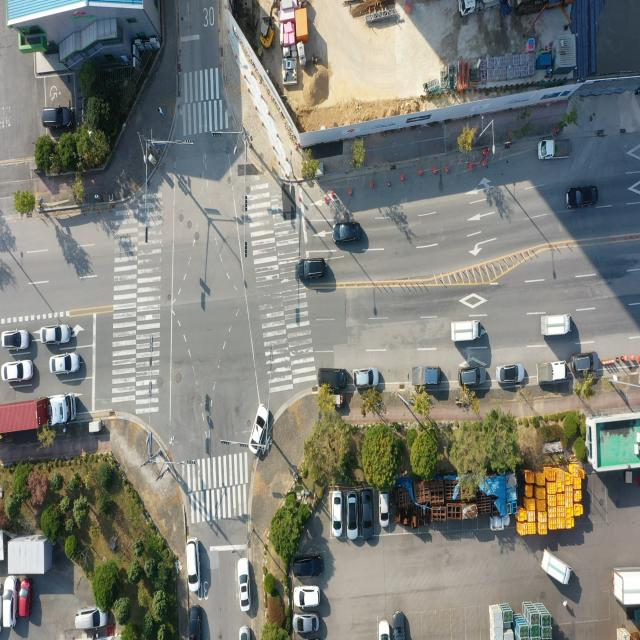car: (250, 403, 270, 454), (42, 104, 74, 129), (566, 188, 598, 212), (2, 576, 16, 628), (318, 367, 348, 391), (2, 359, 33, 382), (294, 556, 322, 580), (496, 362, 525, 385), (78, 610, 108, 632), (334, 221, 362, 244), (300, 259, 328, 282), (571, 351, 599, 374), (53, 354, 82, 376), (41, 323, 70, 345), (186, 540, 198, 592), (360, 491, 373, 539), (0, 331, 28, 353), (294, 586, 320, 608), (353, 368, 379, 390), (462, 364, 488, 386), (239, 560, 250, 611), (348, 493, 360, 538), (295, 616, 320, 636), (20, 579, 32, 618), (334, 492, 344, 538), (188, 604, 200, 640), (380, 492, 390, 527), (394, 612, 406, 640), (379, 621, 391, 640), (240, 626, 251, 640)
large_truck: (0, 393, 77, 438)
medium_truck: (613, 569, 640, 607), (458, 0, 486, 20)
small_truck: (540, 550, 572, 588), (450, 319, 482, 343), (537, 360, 569, 384), (539, 314, 571, 338), (410, 365, 441, 389), (537, 138, 569, 160)
